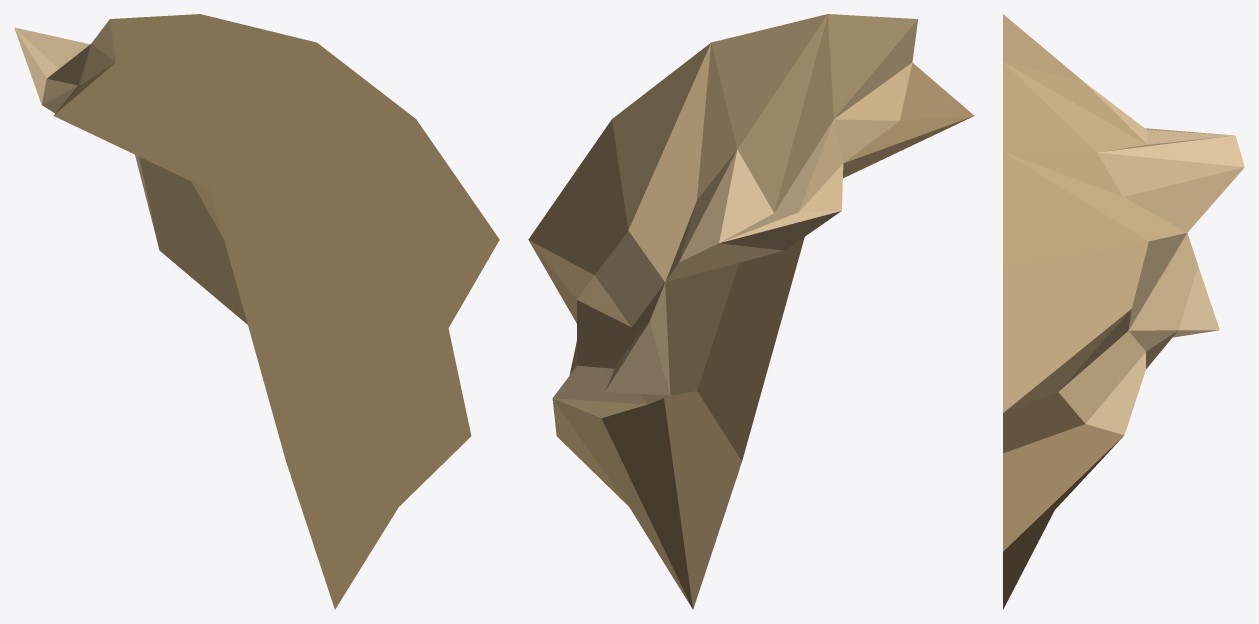
File: desert_rock_3.fbx
3 renders of one model, left to right at view 1: azimuth 30°, elevation 25°; view 2: azimuth 150°, elevation 25°; view 3: azimuth 270°, elevation 25°, orthographic. The views are drawn at different scales.
Parts seen in each view (by area): view 1: desert_rock_3; view 2: desert_rock_3; view 3: desert_rock_3.
Part boxes in pixels (<box>): desert_rock_3: <box>14,14,499,609</box>; desert_rock_3: <box>528,14,974,609</box>; desert_rock_3: <box>1003,14,1244,609</box>.
Size of the model in its own units: 393 by 543 by 234.
